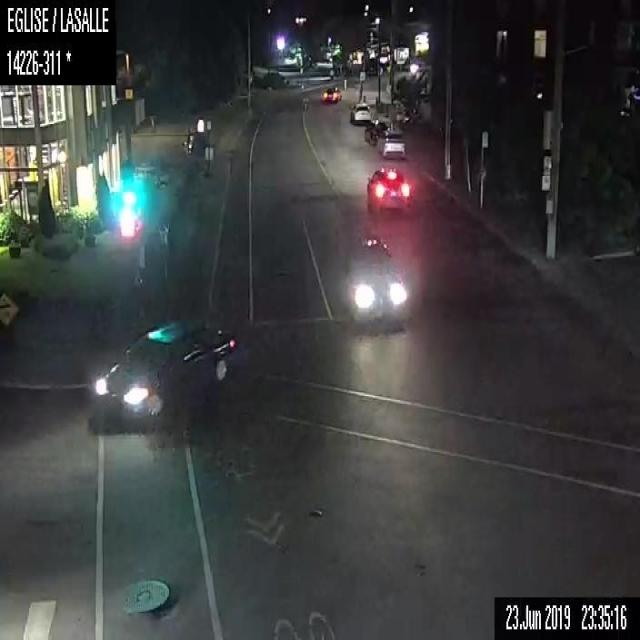vehicle: (88, 318, 236, 430), (337, 230, 413, 326), (364, 167, 412, 214), (375, 124, 406, 160), (364, 116, 387, 145), (348, 99, 372, 122), (321, 83, 342, 104)
